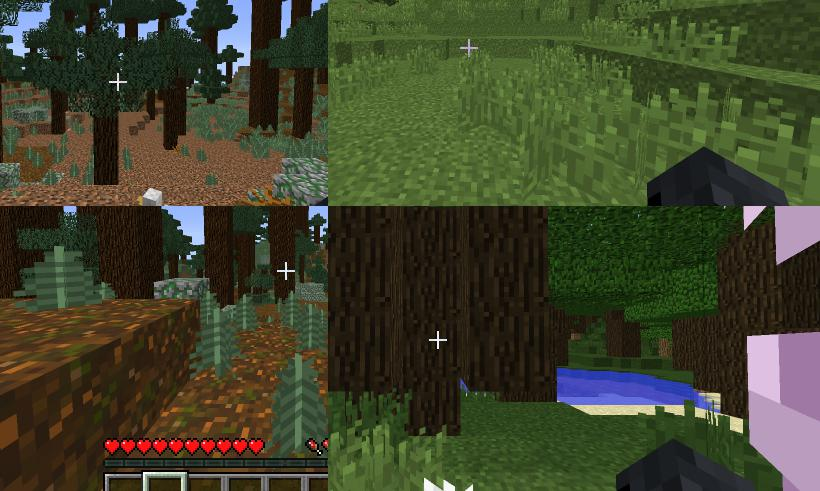minecraft-blocks: (718, 225, 820, 421), (466, 207, 551, 401), (329, 207, 399, 393), (405, 211, 459, 436), (87, 207, 161, 307), (1, 207, 62, 313), (251, 1, 277, 135), (199, 207, 233, 307), (675, 316, 717, 392), (274, 207, 297, 304), (604, 305, 643, 361), (96, 116, 121, 183), (162, 83, 185, 150), (295, 67, 312, 139), (53, 86, 68, 134)
